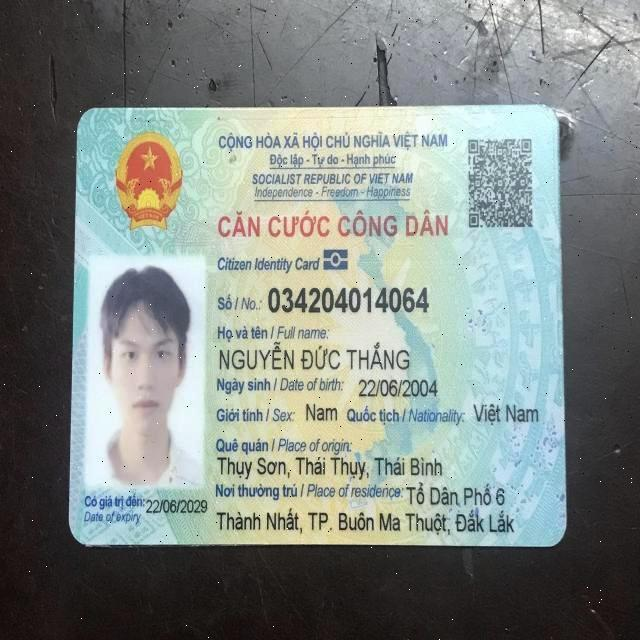current_place: (217, 504, 515, 536), (407, 479, 506, 507)
dob: (357, 372, 440, 401)
expire_date: (142, 493, 209, 519)
gender: (299, 396, 343, 427)
id: (265, 279, 431, 316)
name: (217, 340, 411, 371)
nationality: (475, 396, 545, 428)
origin_place: (217, 453, 443, 479)
